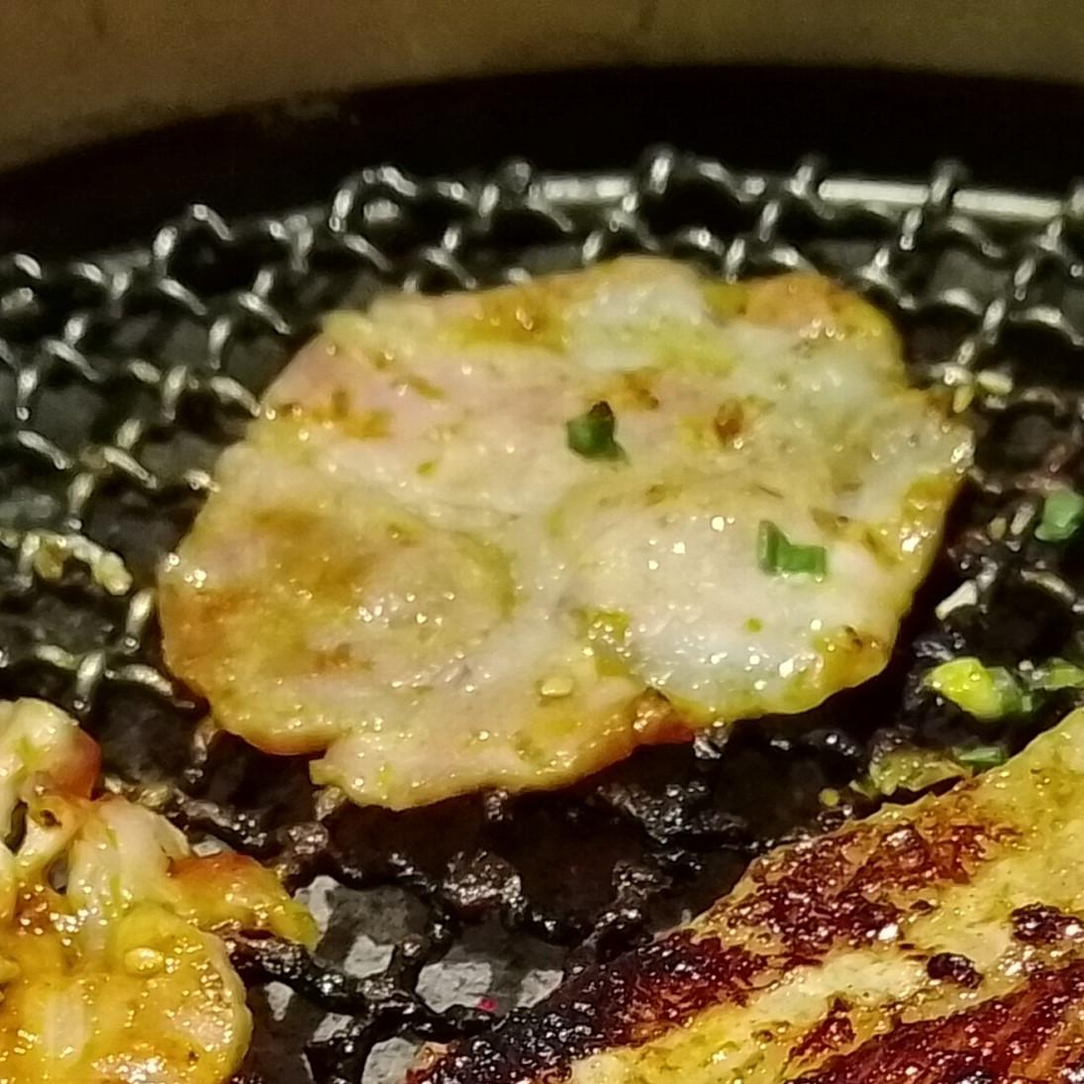Overcooked: (516, 727, 1083, 1083)
Well-Cooked: (153, 255, 973, 816), (0, 702, 313, 1083)
